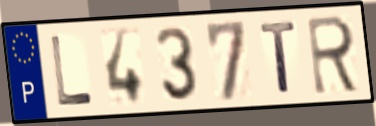3: (155, 25, 200, 103)
4: (105, 26, 148, 107)
7: (202, 18, 248, 104)
L: (48, 33, 96, 109)
R: (305, 13, 363, 98)
T: (258, 19, 299, 96)
